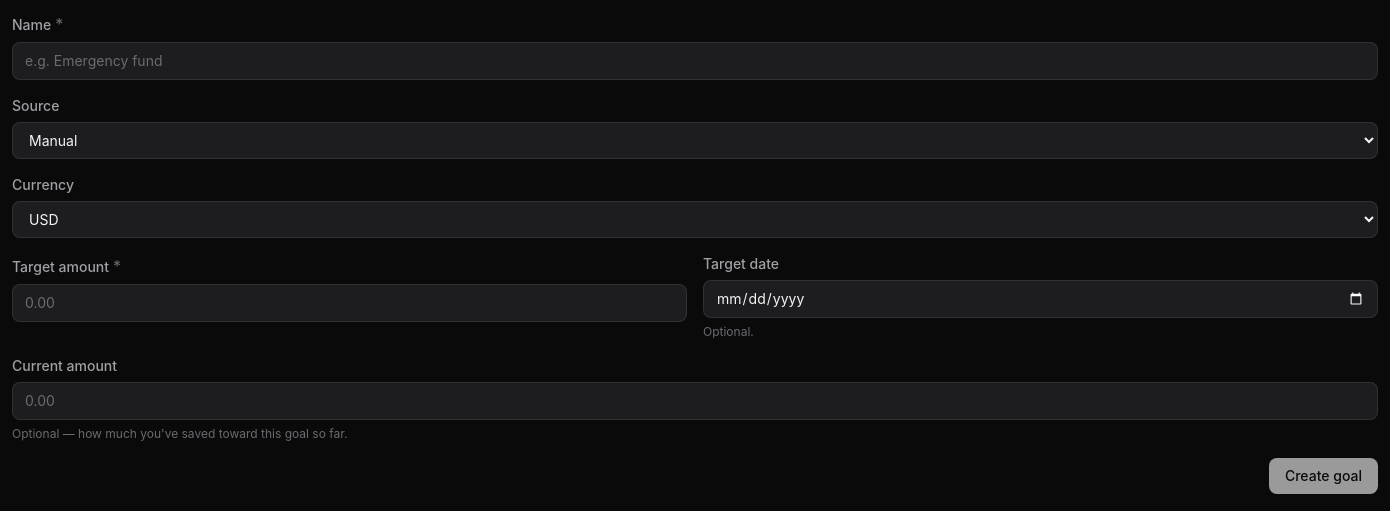
GoalForm › hides the manual amount field but keeps a free currency choice for net worth
Select "Net worth" in the dropdown labelled "Source": (695, 140) [12,122,1378,159]
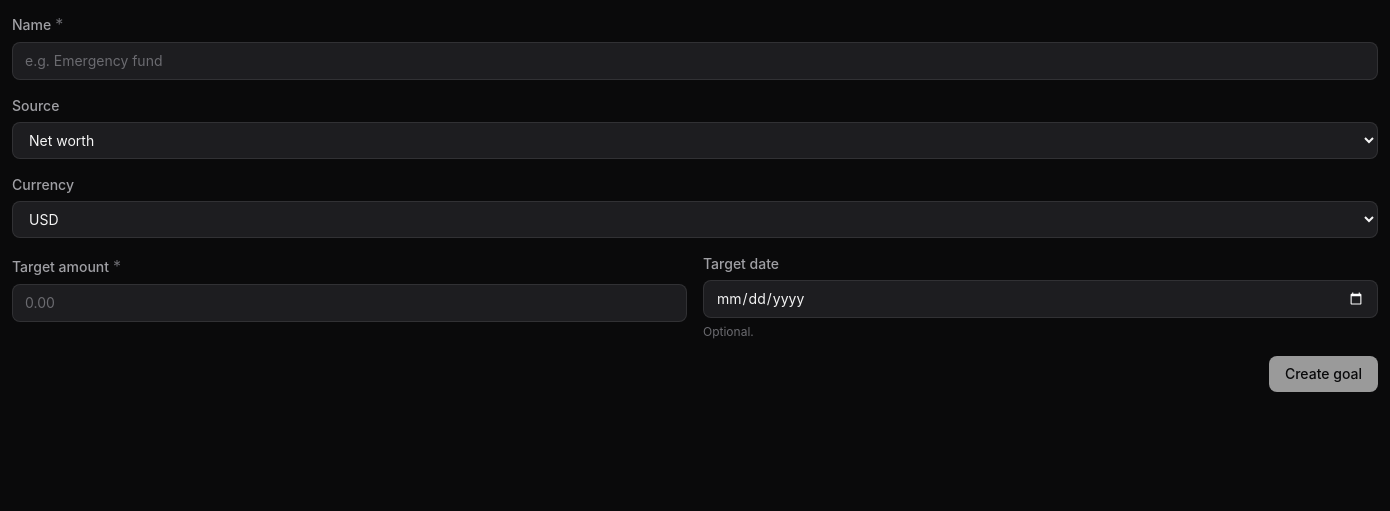
Expected: the dropdown labelled "Currency" is shown, [12,201,1378,238]
Now the label labelled "Current amount" is gone
